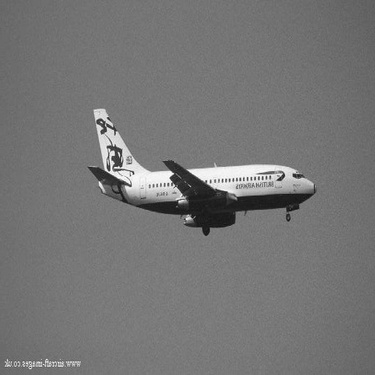airplane: (43, 90, 345, 230)
